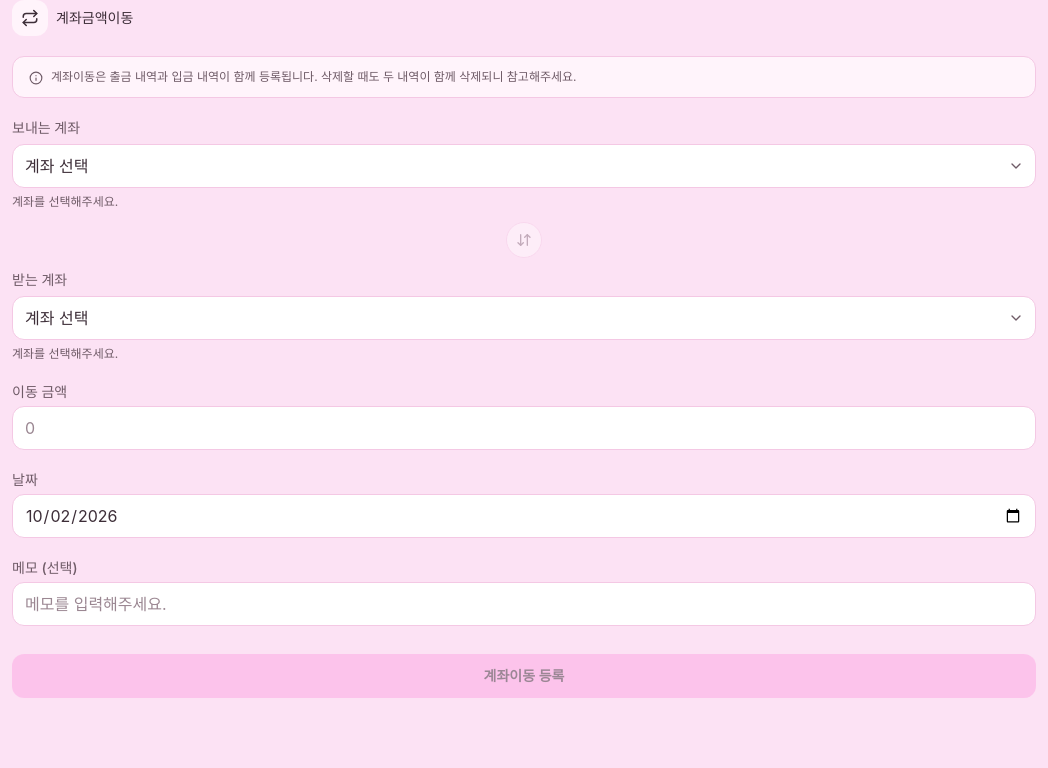
Test: TransferForm › 방향 전환 버튼을 누르면 보내는/받는 계좌가 서로 바뀌고 두 잔액 안내도 즉시 갱신된다
Select "생활통장" in the dropdown below "보내는 계좌" at (524, 166), box left=12, top=144, right=1036, bottom=188
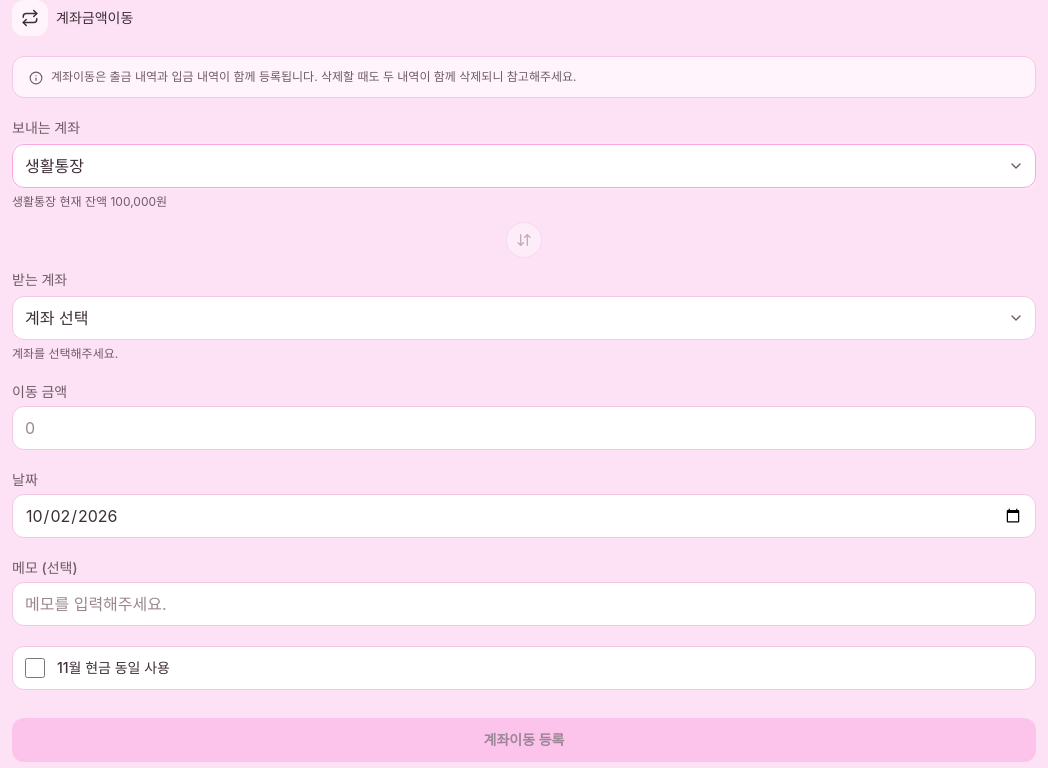
Select "저축통장" in the dropdown below "받는 계좌" at (524, 318), box left=12, top=296, right=1036, bottom=340
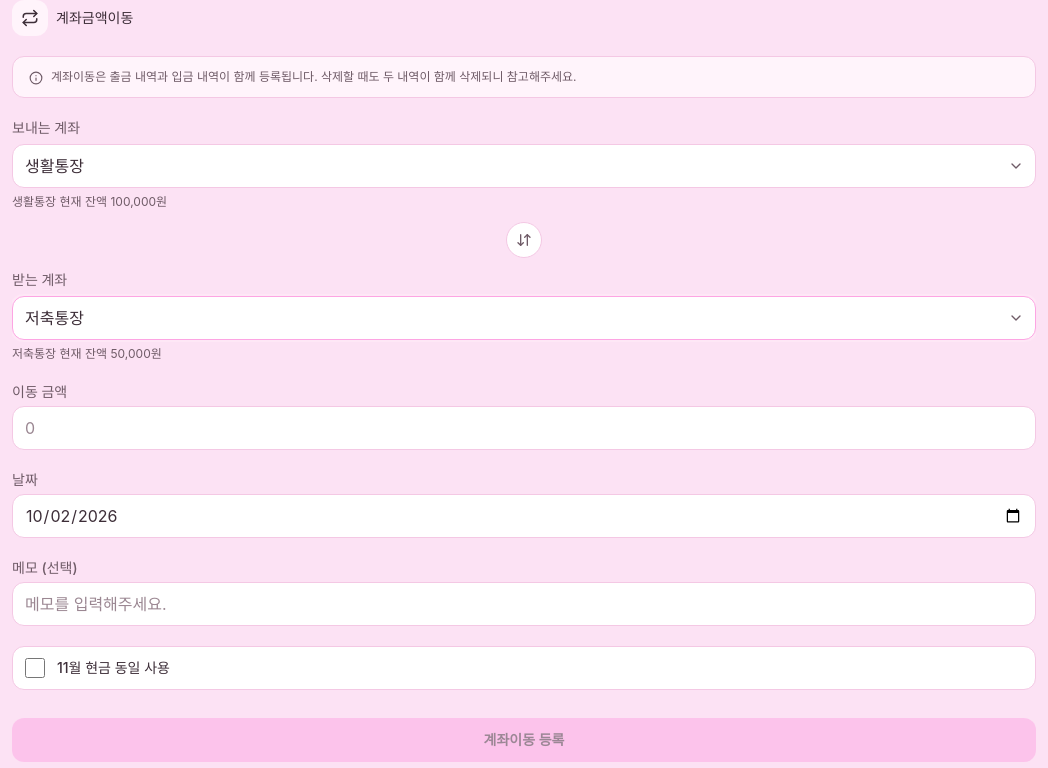
Type "10000" into the field labelled "이동 금액" at (524, 428), box left=12, top=406, right=1036, bottom=450
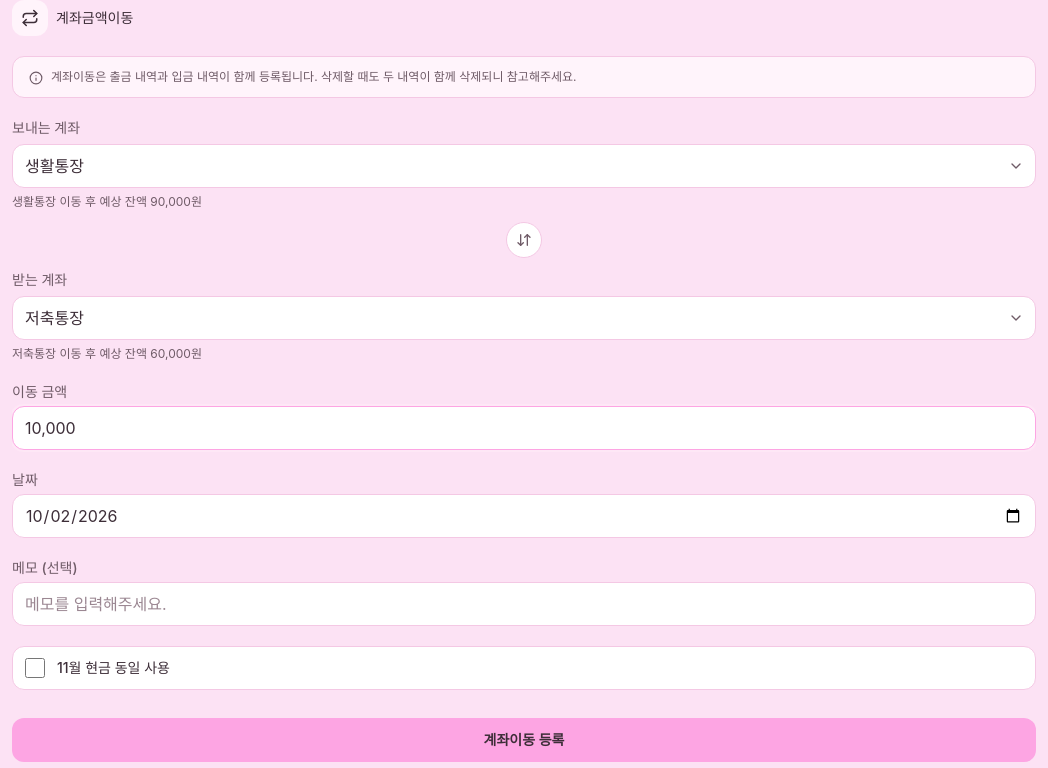
Now the text "생활통장 이동 후 예상 잔액 90,000원" is shown, box left=12, top=194, right=202, bottom=209
Now the text "저축통장 이동 후 예상 잔액 60,000원" is shown, box left=12, top=346, right=202, bottom=361
Click the button named "보내는 계좌와 받는 계좌 서로 바꾸기" at (524, 240), box left=506, top=222, right=542, bottom=258
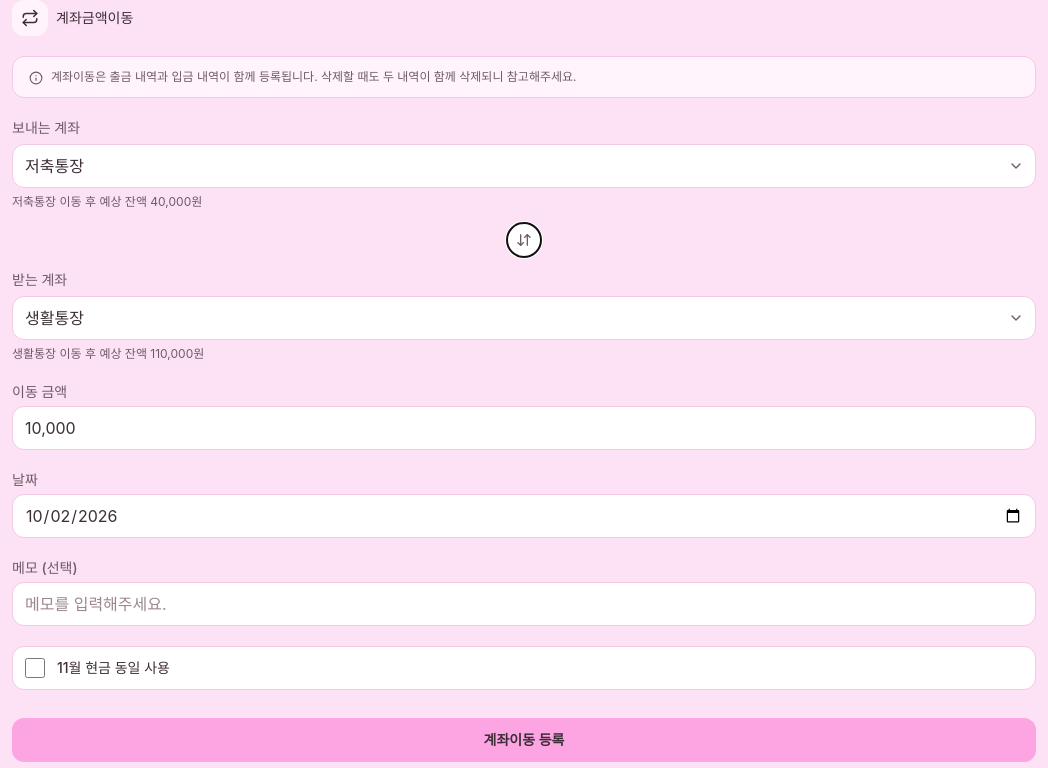
Now the text "저축통장 이동 후 예상 잔액 40,000원" is shown, box left=12, top=194, right=202, bottom=209
Now the text "생활통장 이동 후 예상 잔액 110,000원" is shown, box left=12, top=346, right=204, bottom=361
